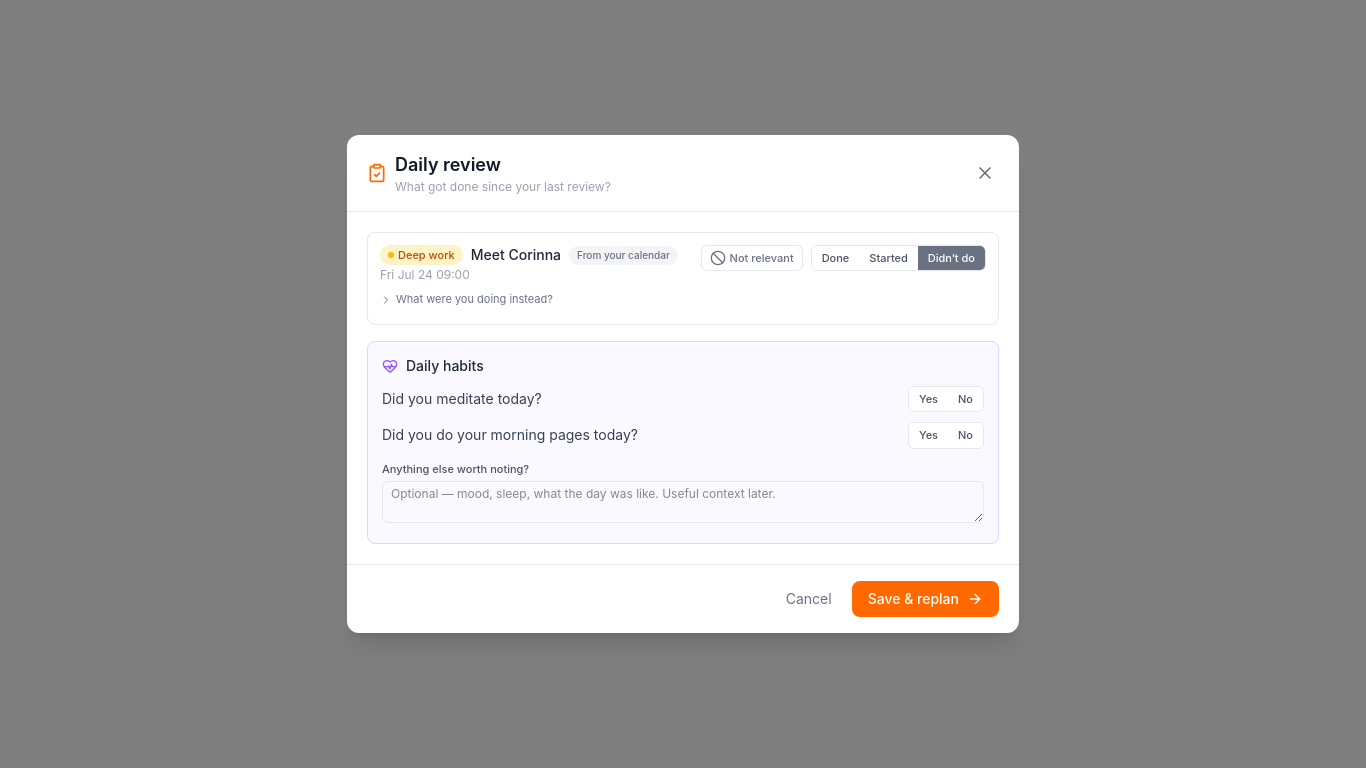
Test case: DailyReviewModal — step 1 outcomes and replacements › shows a prominent "Not relevant" dismissal on calendar rows and hides + remembers on click
The width and height of the screenshot is (1366, 768).
What coordinates should you click on to do the following:
click the button with aria-label "Not relevant — hide this and don’t ask again"
I would click on:
 (752, 258)
Its box is [701,245,803,271].
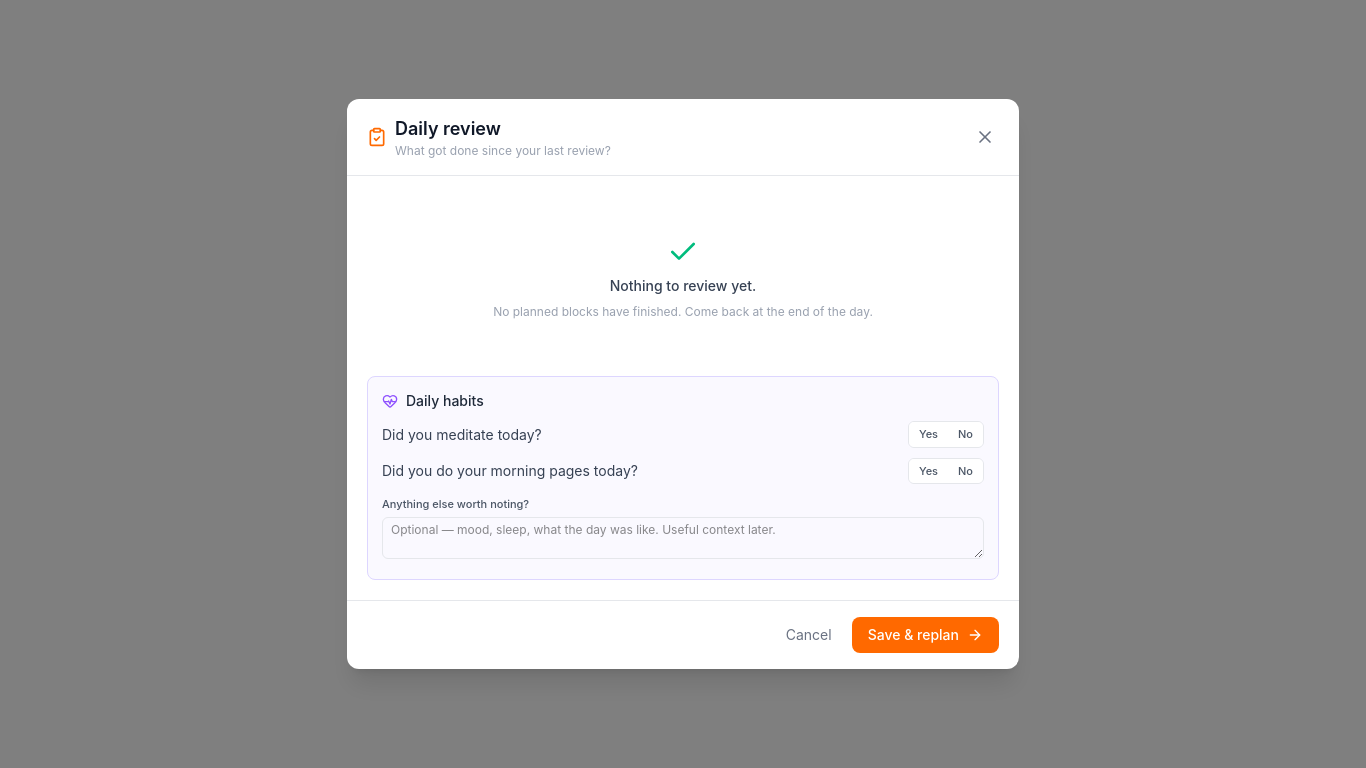
Now the button "Not relevant" is gone
